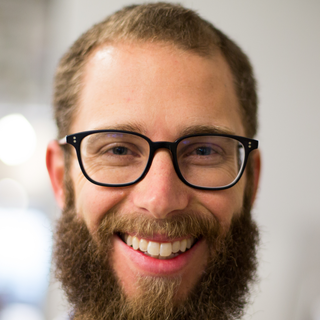eye: (95, 141, 141, 164), (184, 141, 227, 165)
